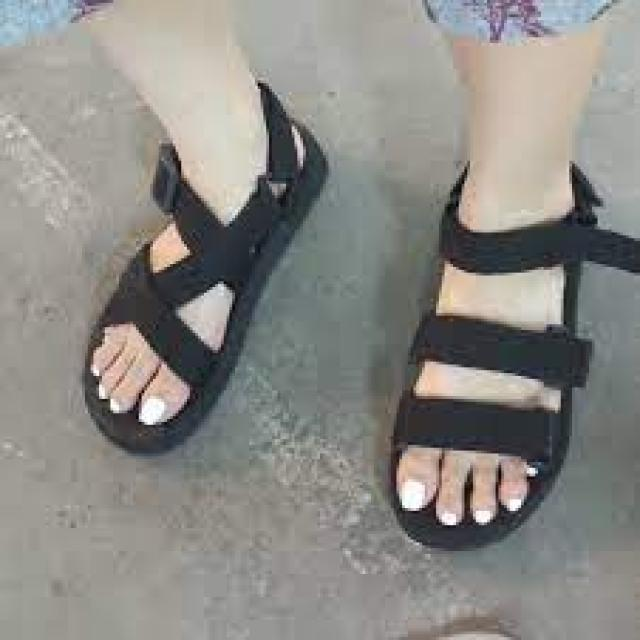Sandals: (38, 97, 615, 614)
